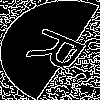R: (24, 25, 100, 78)
